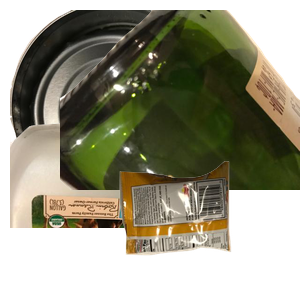glass: (60, 10, 300, 190)
metal: (10, 10, 221, 190)
plastic: (10, 120, 220, 300)
trash: (117, 159, 300, 300)
